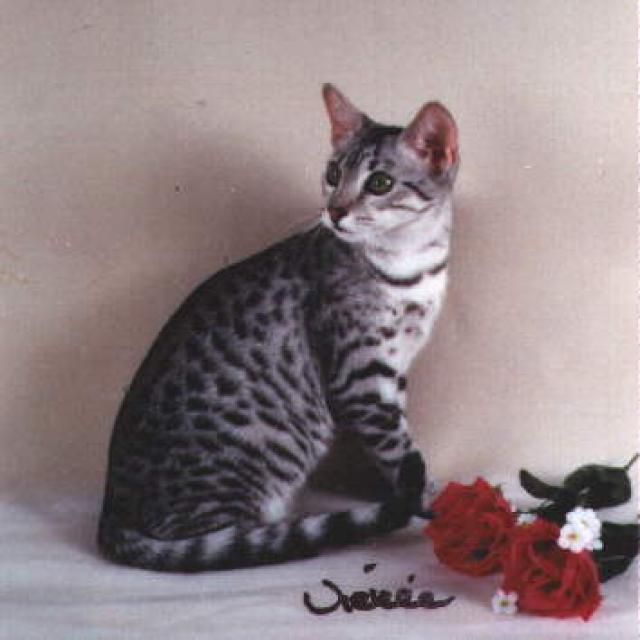Egyptian_Mau: (320, 81, 456, 239)
